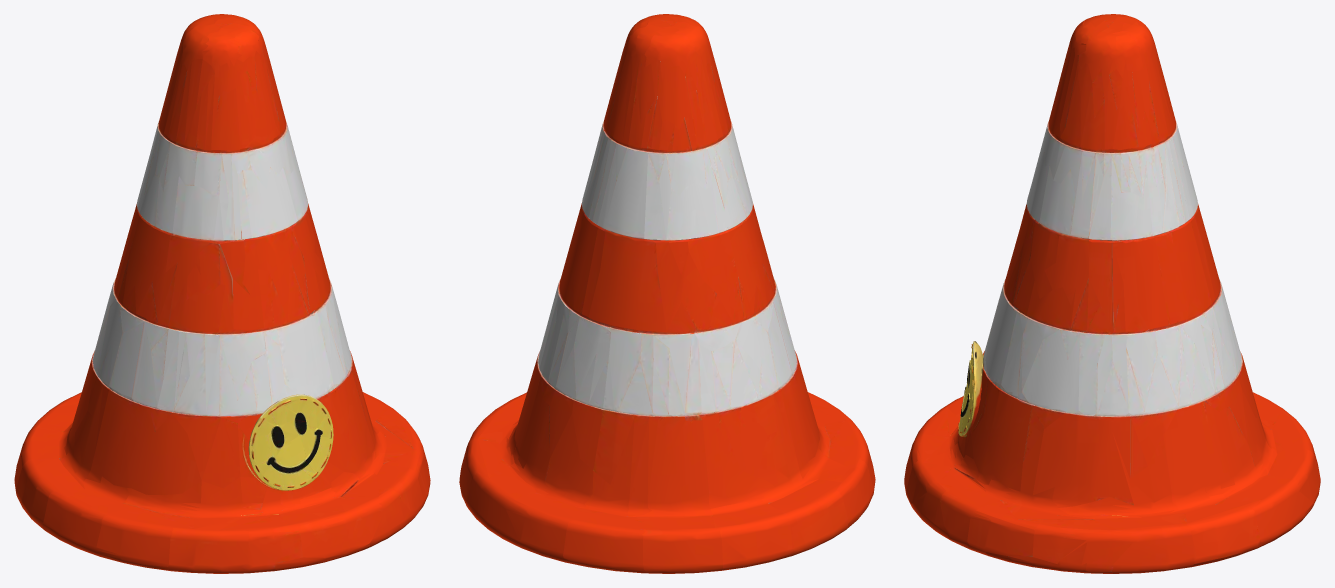
Rendered from traffic_cone.glb.
3 views of the same model, side by side, from view 1: azimuth 30°, elevation 25°; view 2: azimuth 150°, elevation 25°; view 3: azimuth 270°, elevation 25° (orthographic).
Parts seen in each view (by area): view 1: Mesh_0; view 2: Mesh_0; view 3: Mesh_0.
Boxes of the visible parts, x1=… form: Mesh_0: x1=14, y1=14, x2=430, y2=573; Mesh_0: x1=459, y1=14, x2=875, y2=573; Mesh_0: x1=904, y1=14, x2=1320, y2=573.
Size of the model in its own units: 0.8112 by 1 by 0.8116.
Materials: 1 (1 with a texture image).
